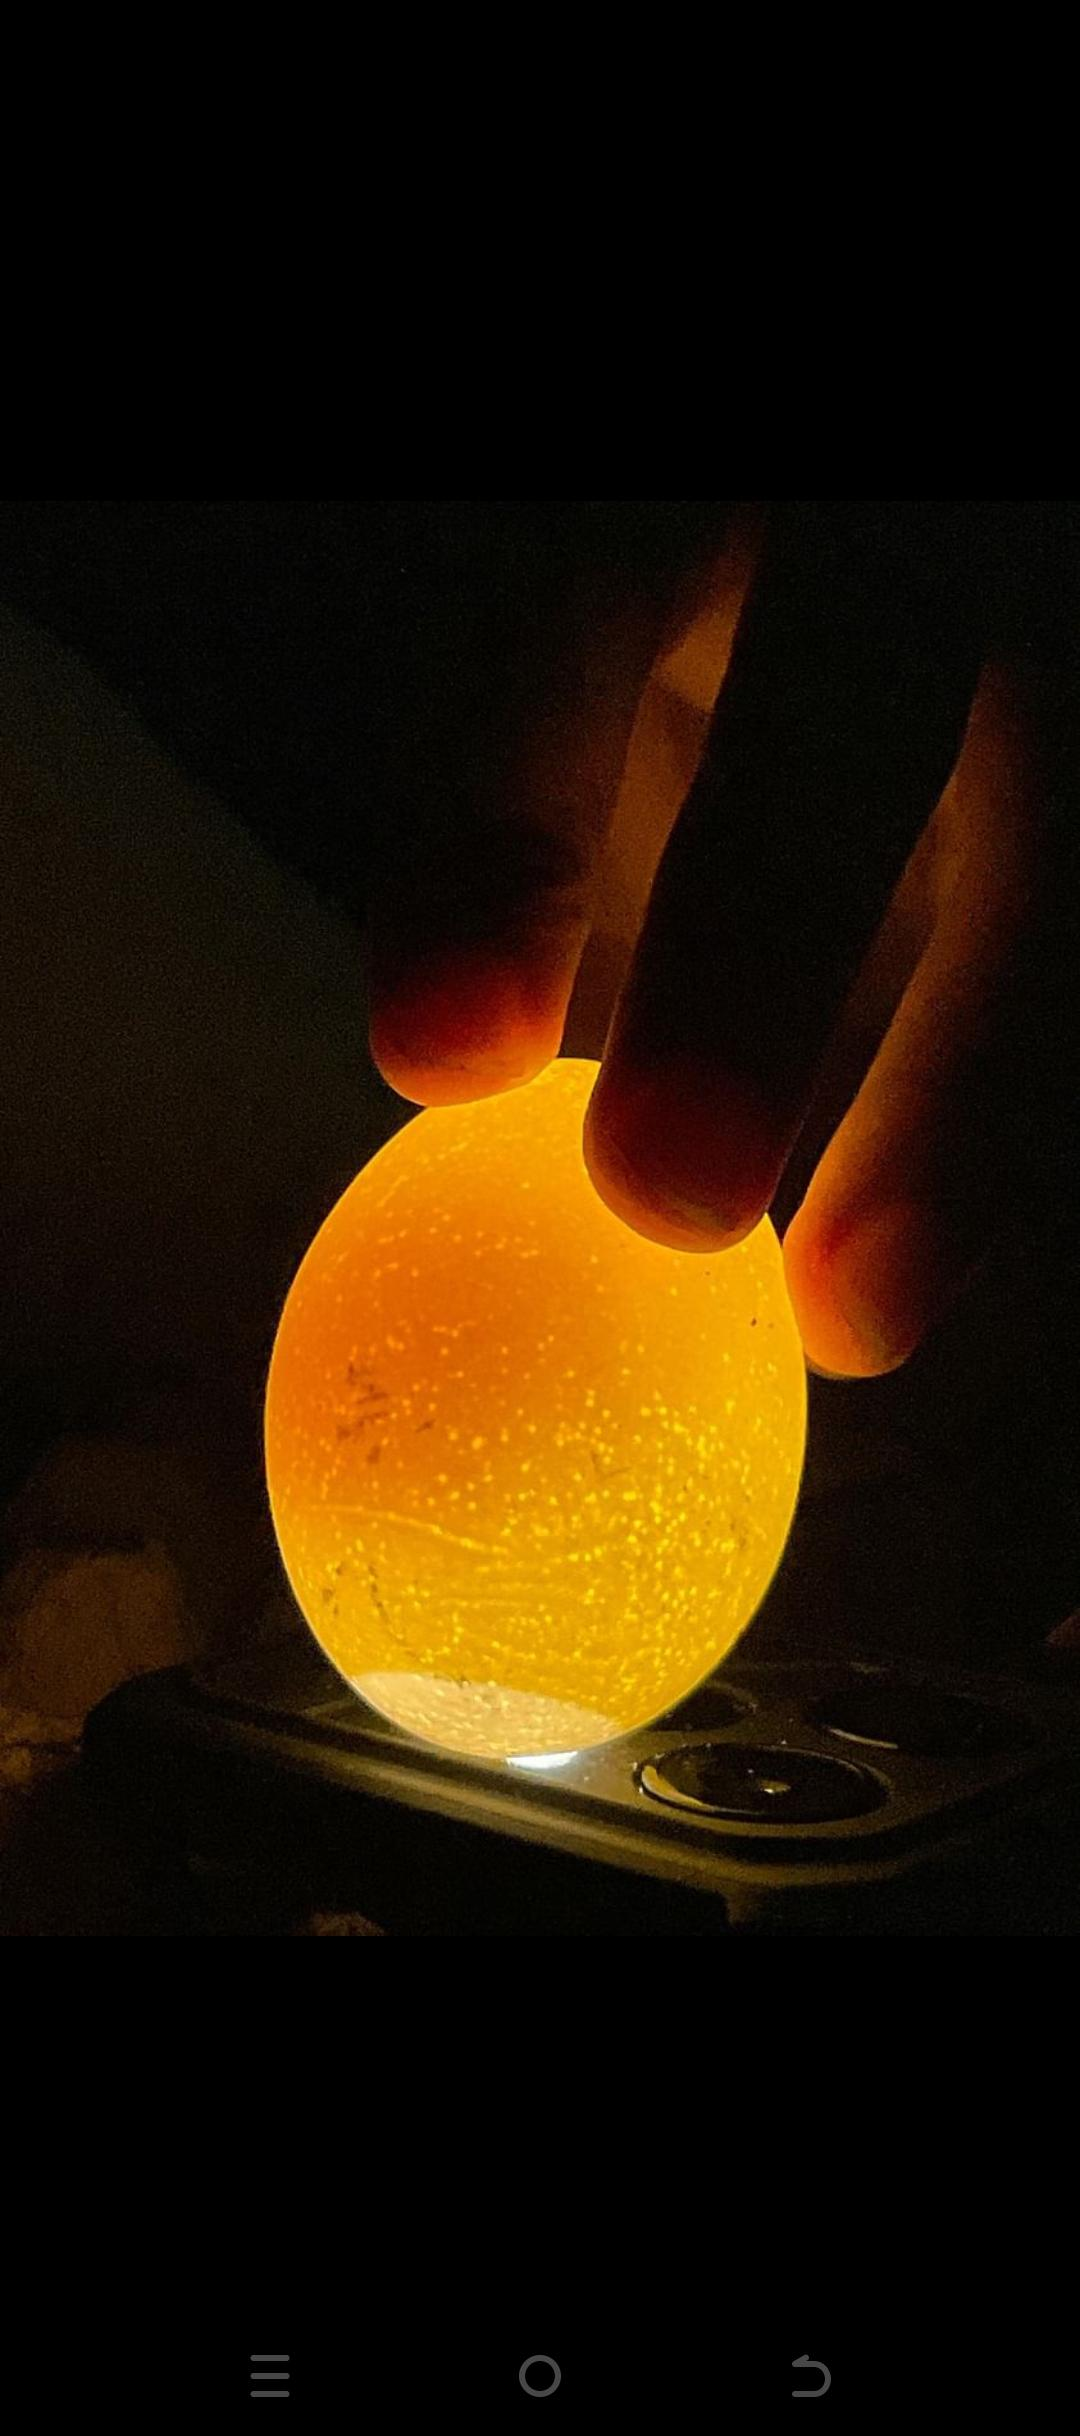A - Good: (277, 1030, 810, 1863)
